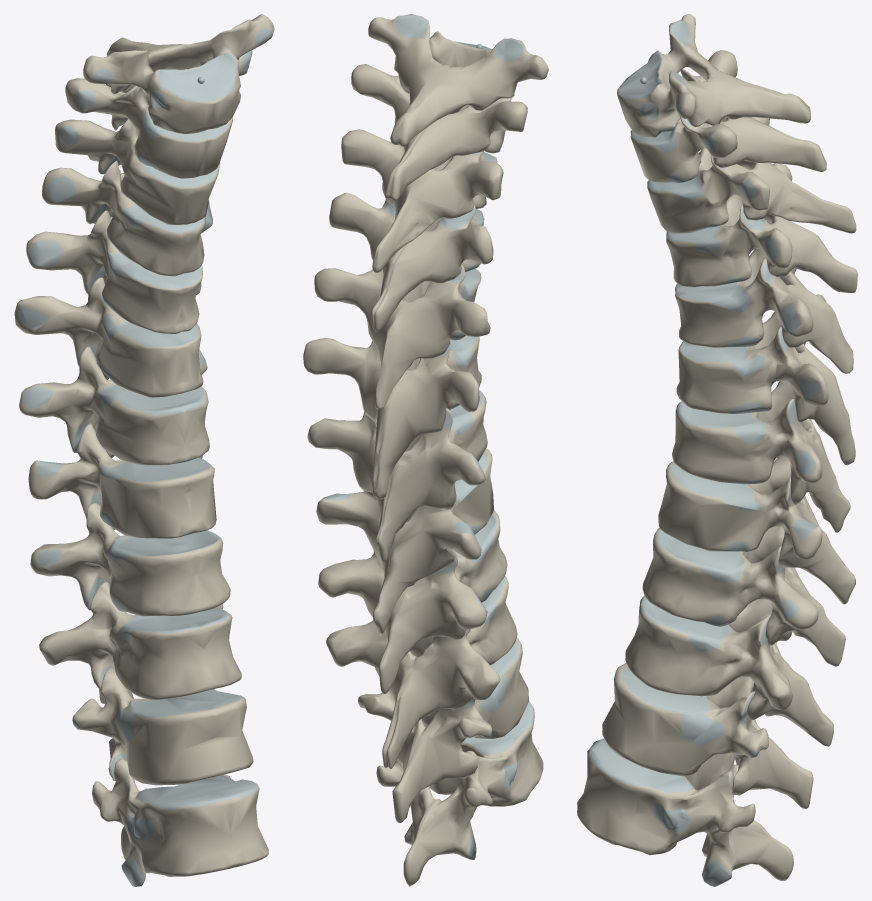
The model's file is detail-skeletal-trunk.glb.
The picture shows the model from 3 angles, left to right: view 1: azimuth 30°, elevation 25°; view 2: azimuth 150°, elevation 25°; view 3: azimuth 270°, elevation 25°; orthographic projection. The views are drawn at different scales.
Visible parts, largest first — view 1: za-792ba4c0105fcd61, za-ddbf6c72bc29c572, za-18b015b2b8a113e3, za-39310f10f871f03e, za-be0449a3e41911a4, za-d0a286ba14e27b81, za-ecb1f7dbc175da67, za-fe40150f8e263b25, za-235aff25d47f45e6, za-84f5b2614efc41f9, za-20e95e2499fd1777, za-e3f0a4de64962f60; view 2: za-ddbf6c72bc29c572, za-ecb1f7dbc175da67, za-fe40150f8e263b25, za-39310f10f871f03e, za-be0449a3e41911a4, za-792ba4c0105fcd61, za-235aff25d47f45e6, za-d0a286ba14e27b81, za-18b015b2b8a113e3, za-84f5b2614efc41f9, za-20e95e2499fd1777, za-e3f0a4de64962f60; view 3: za-792ba4c0105fcd61, za-18b015b2b8a113e3, za-ddbf6c72bc29c572, za-39310f10f871f03e, za-d0a286ba14e27b81, za-be0449a3e41911a4, za-fe40150f8e263b25, za-ecb1f7dbc175da67, za-235aff25d47f45e6, za-84f5b2614efc41f9, za-20e95e2499fd1777, za-e3f0a4de64962f60.
Part boxes in pixels (x1,y1,x2,y2): za-792ba4c0105fcd61: (92,759,268,886); za-ddbf6c72bc29c572: (39,582,241,703); za-18b015b2b8a113e3: (72,668,253,785); za-39310f10f871f03e: (30,503,230,616); za-be0449a3e41911a4: (19,346,209,465); za-d0a286ba14e27b81: (28,423,216,538); za-ecb1f7dbc175da67: (83,14,274,134); za-fe40150f8e263b25: (14,277,203,397); za-235aff25d47f45e6: (26,200,212,333); za-84f5b2614efc41f9: (42,160,205,276); za-20e95e2499fd1777: (55,119,220,224); za-e3f0a4de64962f60: (65,50,252,178); za-ddbf6c72bc29c572: (326,576,517,768); za-ecb1f7dbc175da67: (368,14,548,146); za-fe40150f8e263b25: (303,335,481,499); za-39310f10f871f03e: (318,510,507,693); za-be0449a3e41911a4: (307,390,487,562); za-792ba4c0105fcd61: (376,701,543,886); za-235aff25d47f45e6: (314,264,490,409); za-d0a286ba14e27b81: (316,448,493,635); za-18b015b2b8a113e3: (358,637,528,822); za-84f5b2614efc41f9: (329,192,493,331); za-20e95e2499fd1777: (341,129,503,272); za-e3f0a4de64962f60: (351,64,527,200); za-792ba4c0105fcd61: (577,738,793,886); za-18b015b2b8a113e3: (602,663,813,808); za-ddbf6c72bc29c572: (625,596,833,746); za-39310f10f871f03e: (642,526,845,666); za-d0a286ba14e27b81: (658,456,855,604); za-be0449a3e41911a4: (672,381,850,532); za-fe40150f8e263b25: (676,294,855,465); za-ecb1f7dbc175da67: (617,14,810,137); za-235aff25d47f45e6: (675,249,853,373); za-84f5b2614efc41f9: (666,163,857,292); za-20e95e2499fd1777: (647,117,856,233); za-e3f0a4de64962f60: (630,50,826,182).
Bounding box in the file's own units: 0.0777 × 0.3413 × 0.1045.
